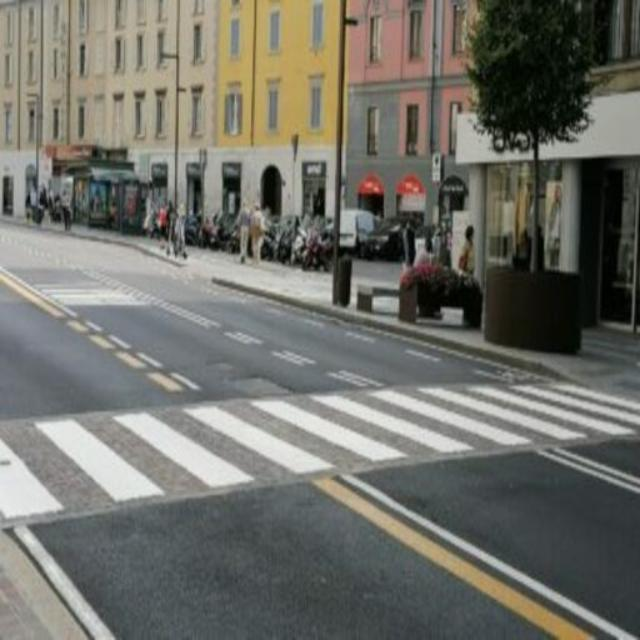sidewalk: (8, 379, 637, 524)
